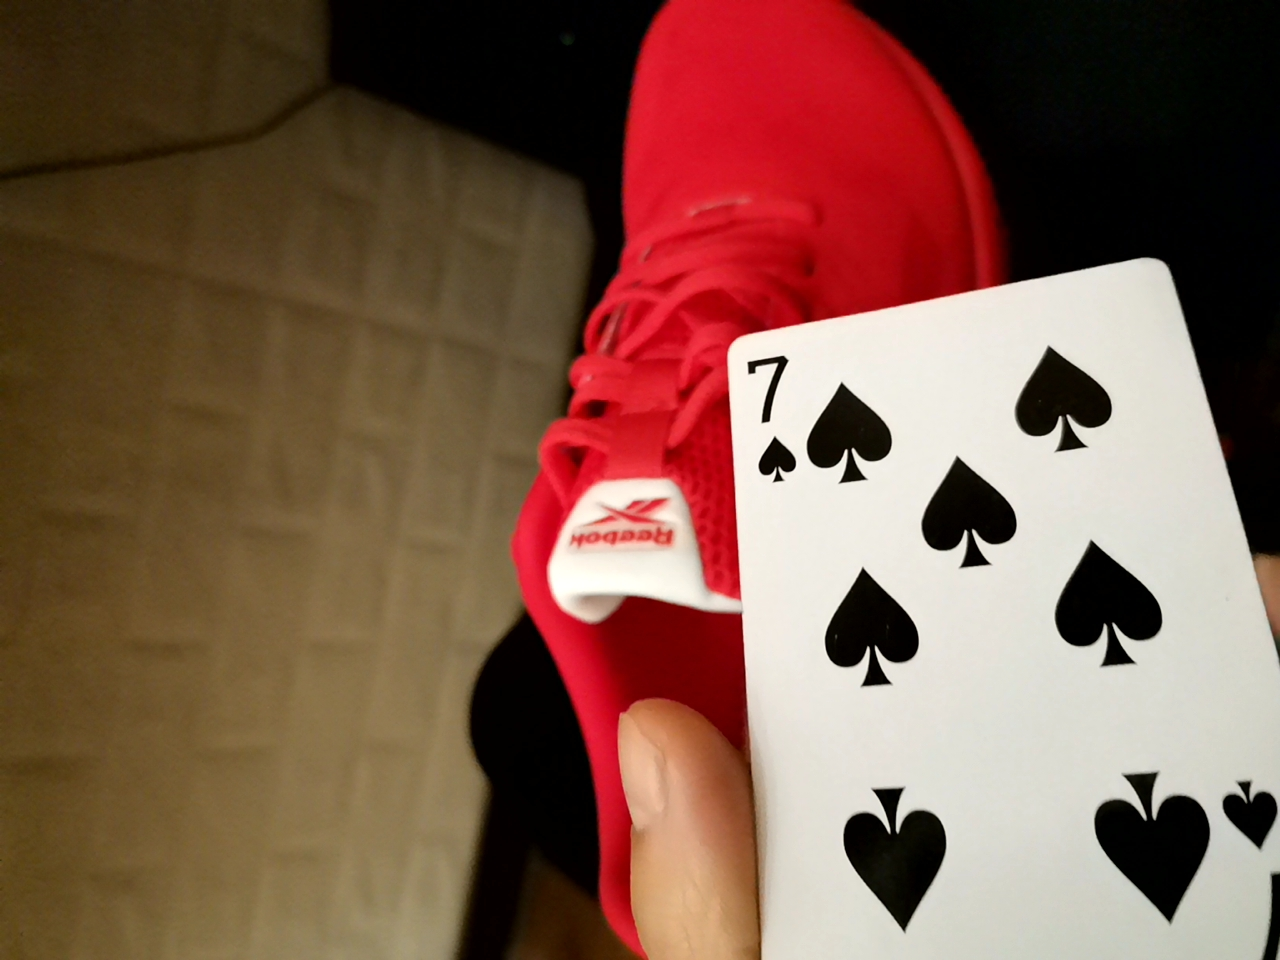ht 7: (684, 278, 1266, 955)
